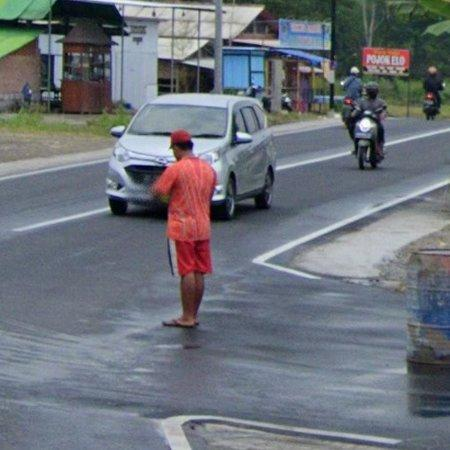motorcycles: (355, 109, 382, 170)
